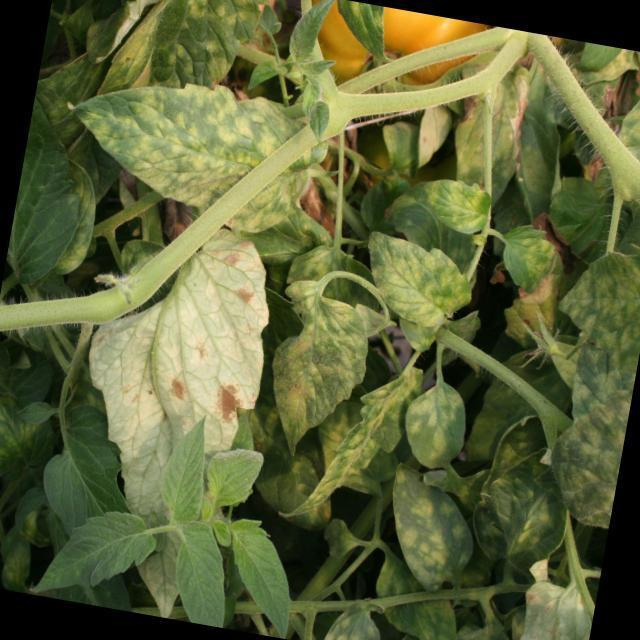Healthy Leaf: (30, 498, 158, 614), (216, 517, 313, 640), (160, 418, 214, 525), (170, 534, 234, 621), (202, 444, 272, 518)
Mosaic Virus: (58, 76, 328, 240), (541, 247, 640, 521), (295, 350, 413, 528), (164, 236, 274, 424), (478, 402, 583, 565), (354, 227, 479, 334), (144, 0, 263, 96), (378, 475, 478, 589), (363, 571, 472, 640), (411, 168, 503, 243), (399, 382, 471, 472), (498, 226, 560, 296), (329, 0, 393, 55), (319, 593, 387, 640), (621, 53, 640, 173)
